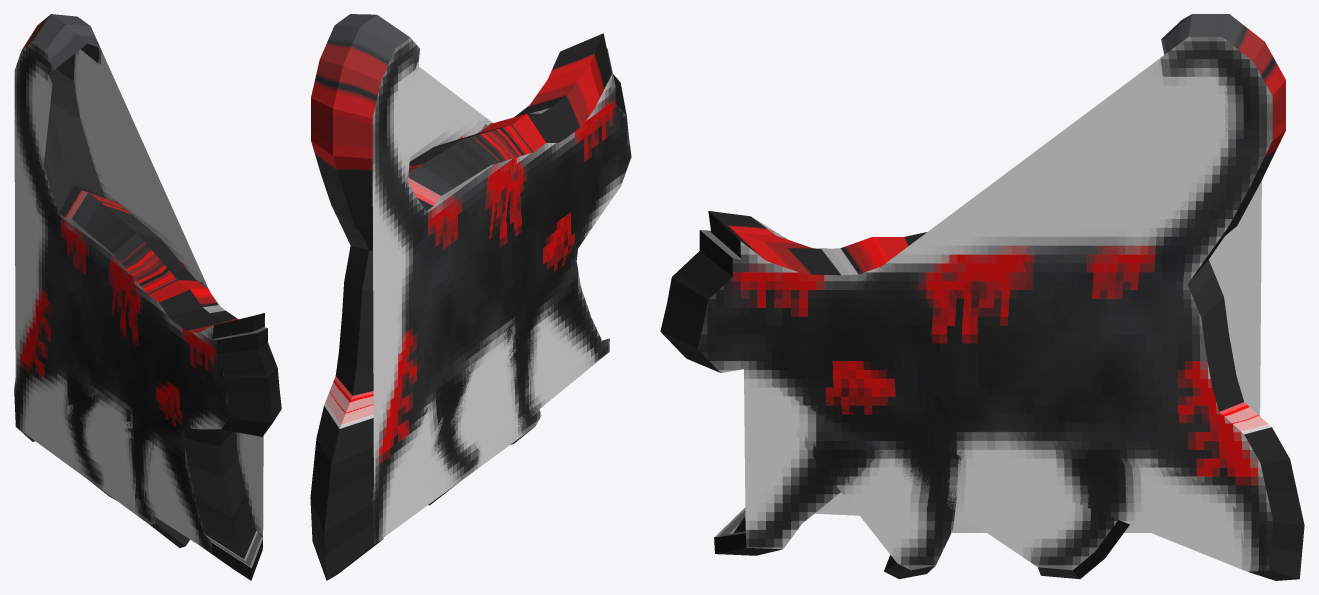
The model's file is DEAD CAT.fbx.
The picture shows the model from 3 angles, left to right: view 1: azimuth 30°, elevation 25°; view 2: azimuth 150°, elevation 25°; view 3: azimuth 270°, elevation 25°; orthographic projection. The views are drawn at different scales.
Visible parts, largest first — view 1: Cube; view 2: Cube; view 3: Cube.
Part boxes in pixels (box(x1,y1,x2,y2)): Cube: box(14, 14, 281, 580); Cube: box(310, 14, 631, 580); Cube: box(660, 14, 1304, 580).
Bounding box in the file's own units: 65.28 × 557 × 573.
